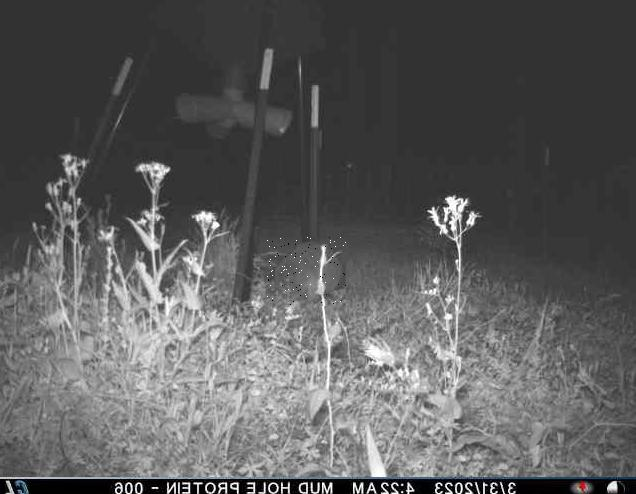Raccoon: (266, 238, 345, 307)
